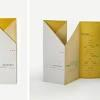paper: (43, 15, 100, 85), (0, 16, 32, 91)
